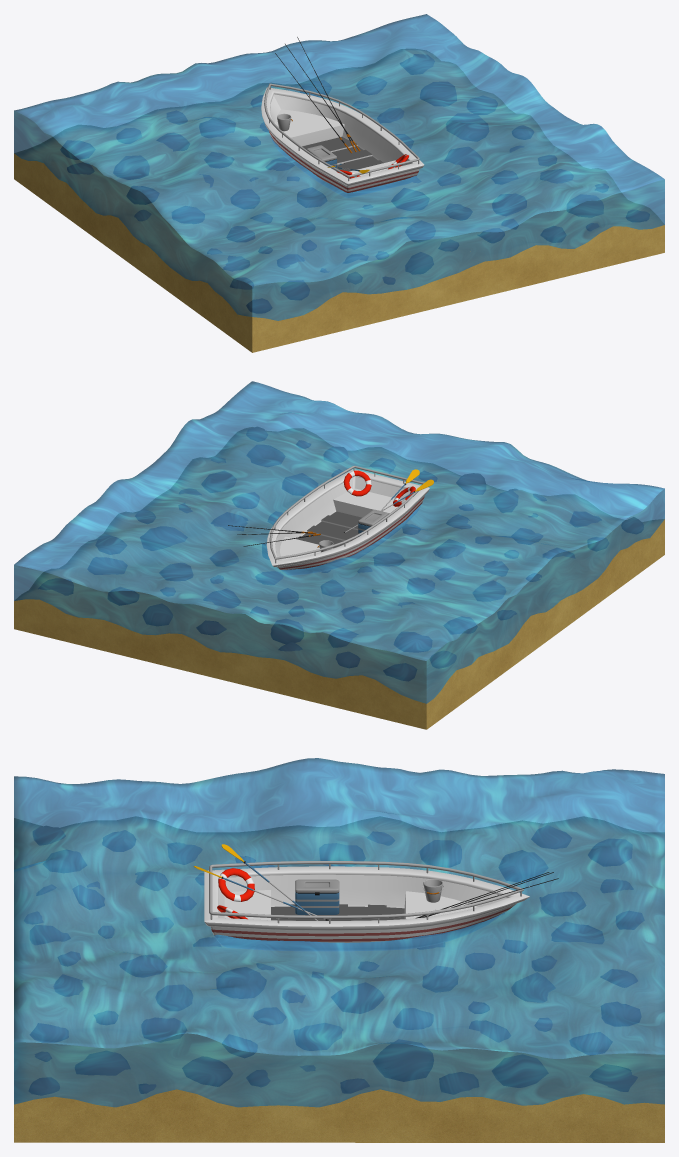
The picture shows the model from 3 angles, top to bottom: view 1: azimuth 30°, elevation 25°; view 2: azimuth 150°, elevation 25°; view 3: azimuth 270°, elevation 25°; orthographic projection. The views are drawn at different scales.
Parts seen in each view (by area): view 1: Cenario, Rock, Boat; view 2: Cenario, Rock, Boat; view 3: Cenario, Rock, Boat, Box, Floater.
Part boxes in pixels (x1,y1,x2,y2): Cenario: (14,14,664,352); Rock: (60,54,649,312); Boat: (261,83,424,197); Cenario: (14,381,664,729); Rock: (38,427,643,680); Boat: (266,465,429,574); Cenario: (14,758,664,1142); Rock: (24,825,643,1094); Boat: (204,861,529,950); Box: (295,879,339,914); Floater: (218,868,254,901).
Bounding box in the file's own units: 8 × 2.12 × 8.
14 materials, 2 textured.
